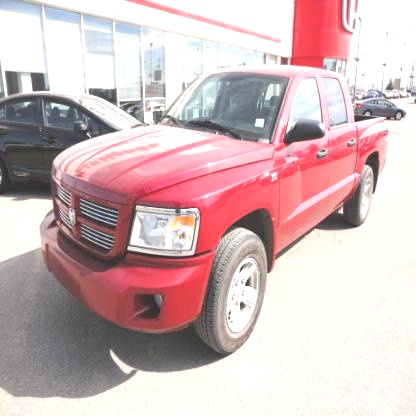Vehicle: (38, 64, 391, 356)
